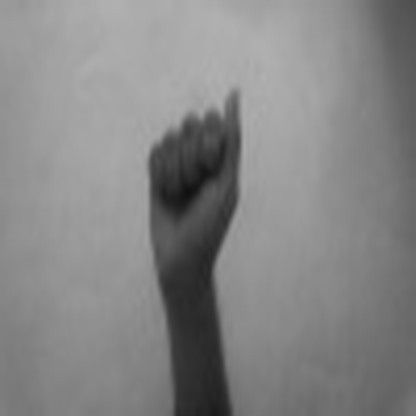a: (138, 75, 252, 283)
